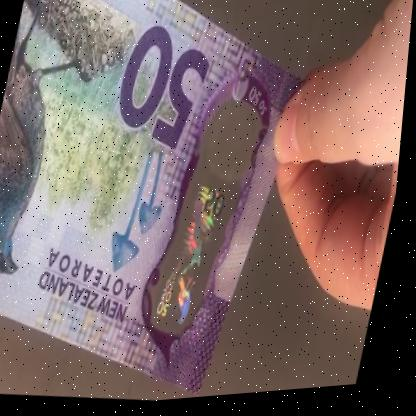50B: (158, 92, 259, 338)
